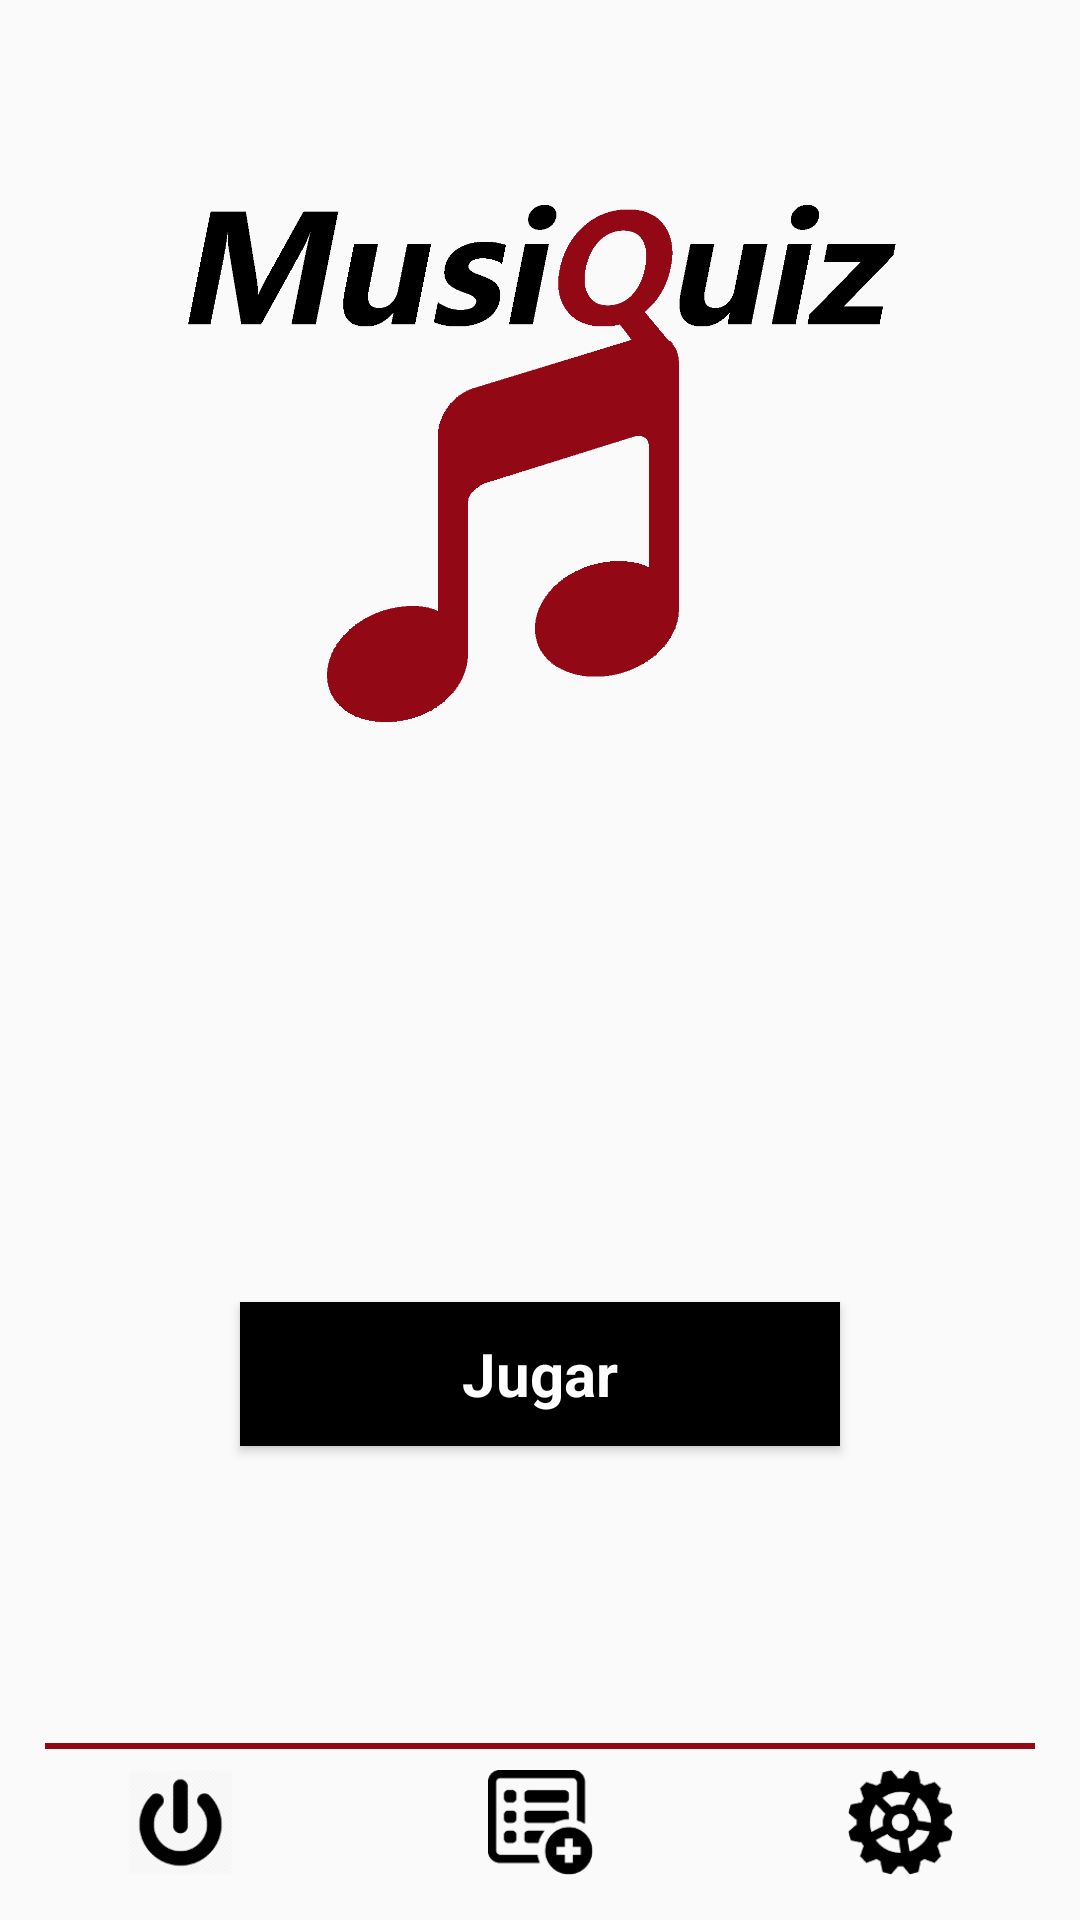

Screen size 1080×1920. Icon name, then its box in pixels as (x1, y1, x2, y2):
addquest: (488, 1770, 593, 1875)
poweroff: (139, 1779, 222, 1866)
settings: (848, 1770, 953, 1875)
